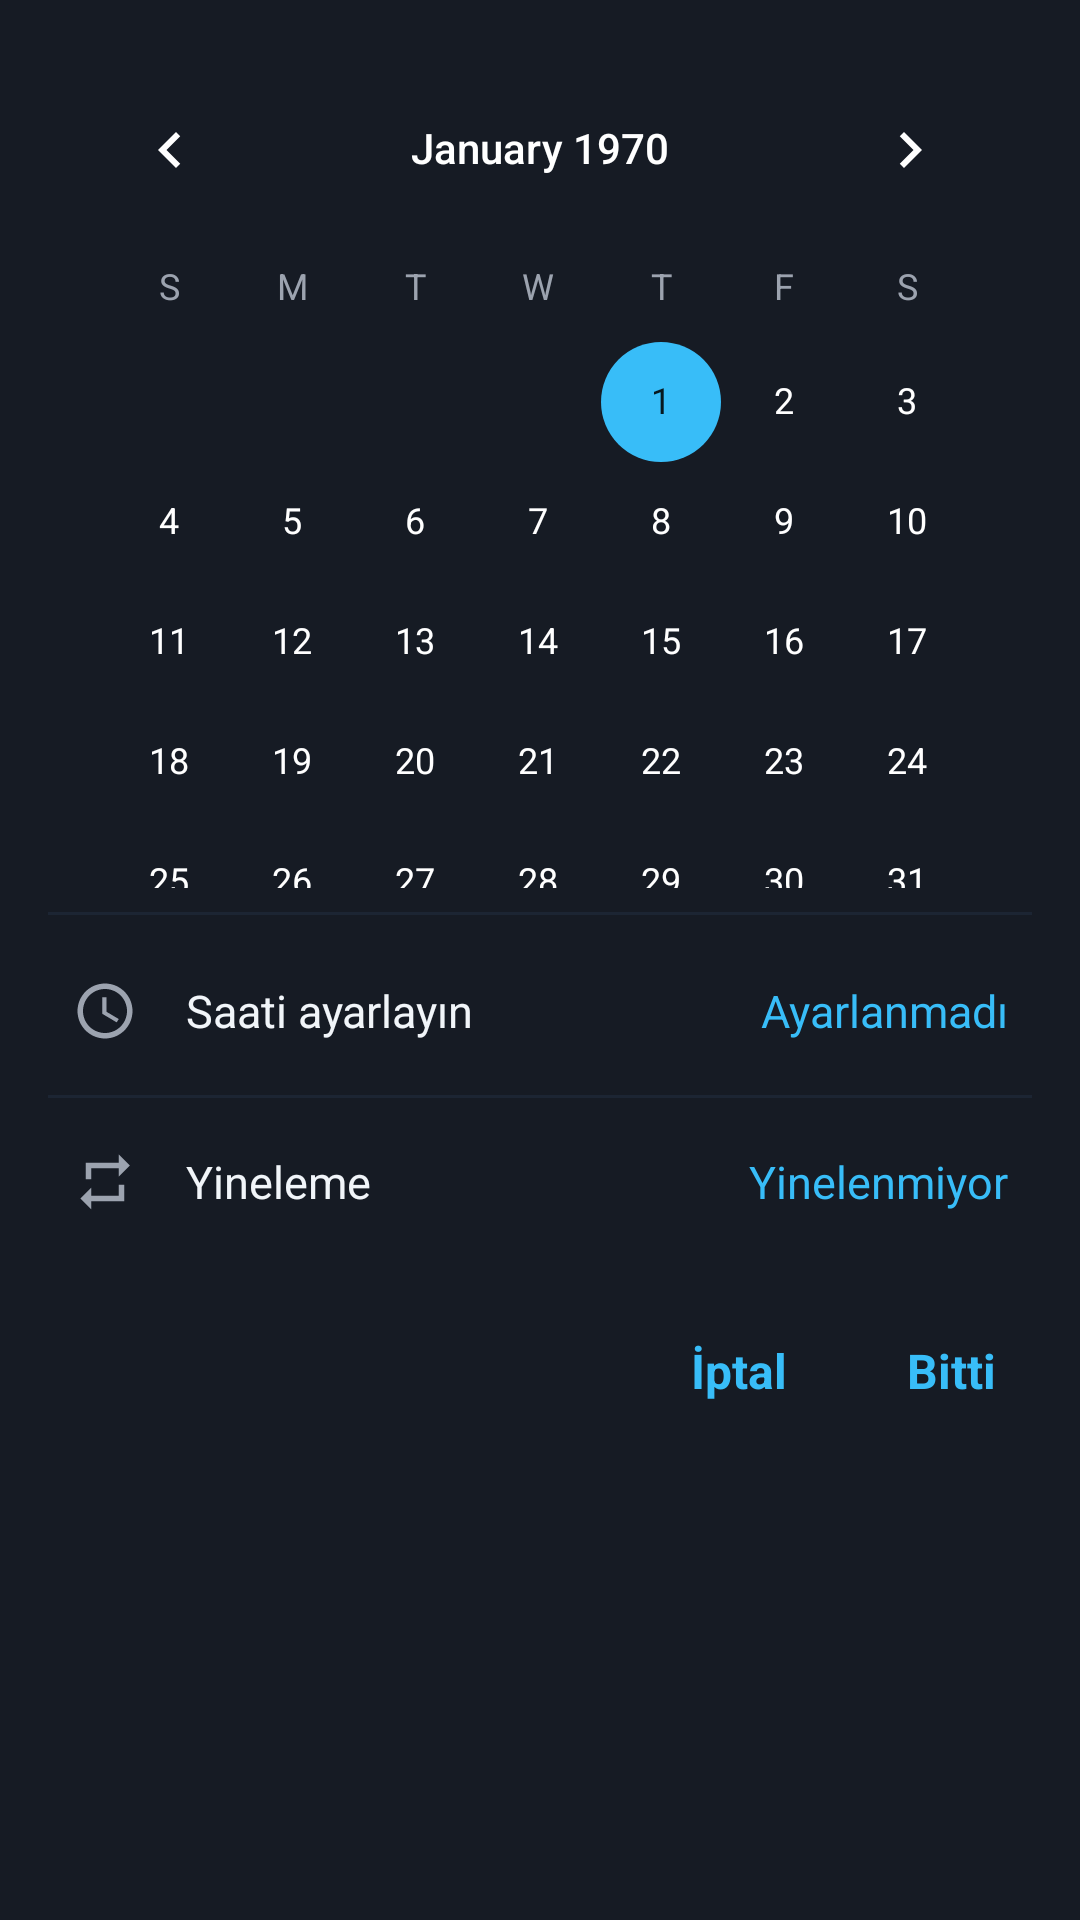

Screen size 1080 × 1920. Icon name, then its box in pixels as bbox=(x1, y1, x2, y2):
Repeat: bbox=(80, 1155, 130, 1209)
Time: bbox=(77, 983, 133, 1039)
